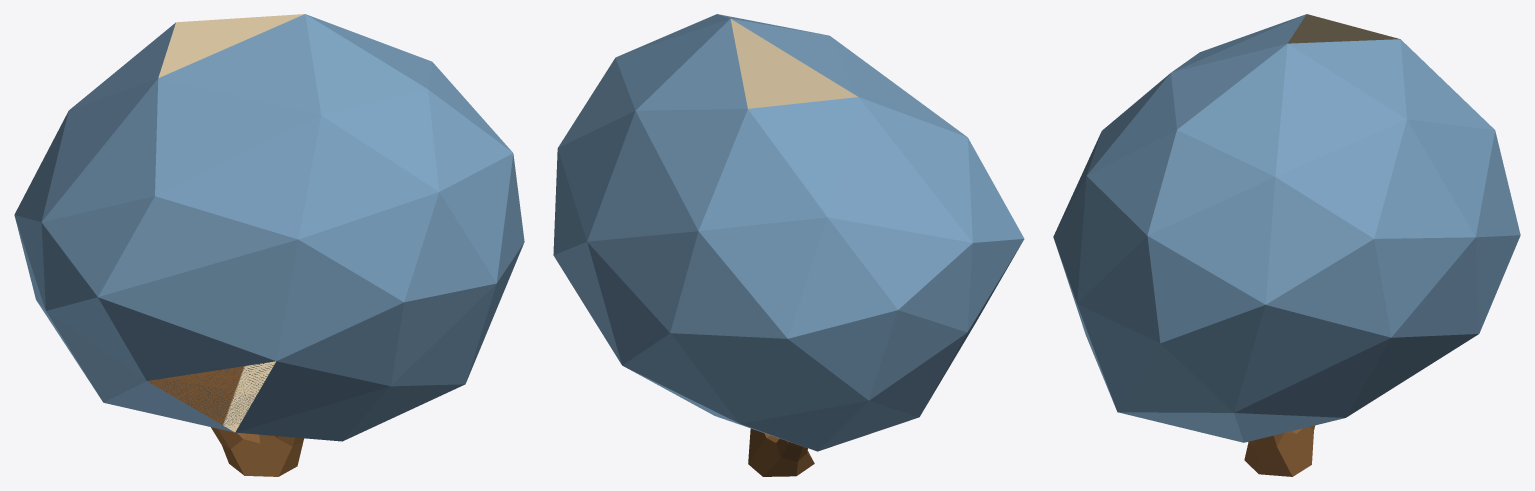
File: Bush2.fbx
3 views of the same model, side by side, from view 1: azimuth 30°, elevation 25°; view 2: azimuth 150°, elevation 25°; view 3: azimuth 270°, elevation 25° (orthographic).
Parts seen in each view (by area): view 1: Circle.001; view 2: Circle.001; view 3: Circle.001.
Part boxes in pixels (bbox=[...]): Circle.001: bbox=[14, 14, 524, 476]; Circle.001: bbox=[553, 14, 1024, 476]; Circle.001: bbox=[1053, 14, 1520, 476].
Size of the model in its own units: 564 by 554 by 530.
